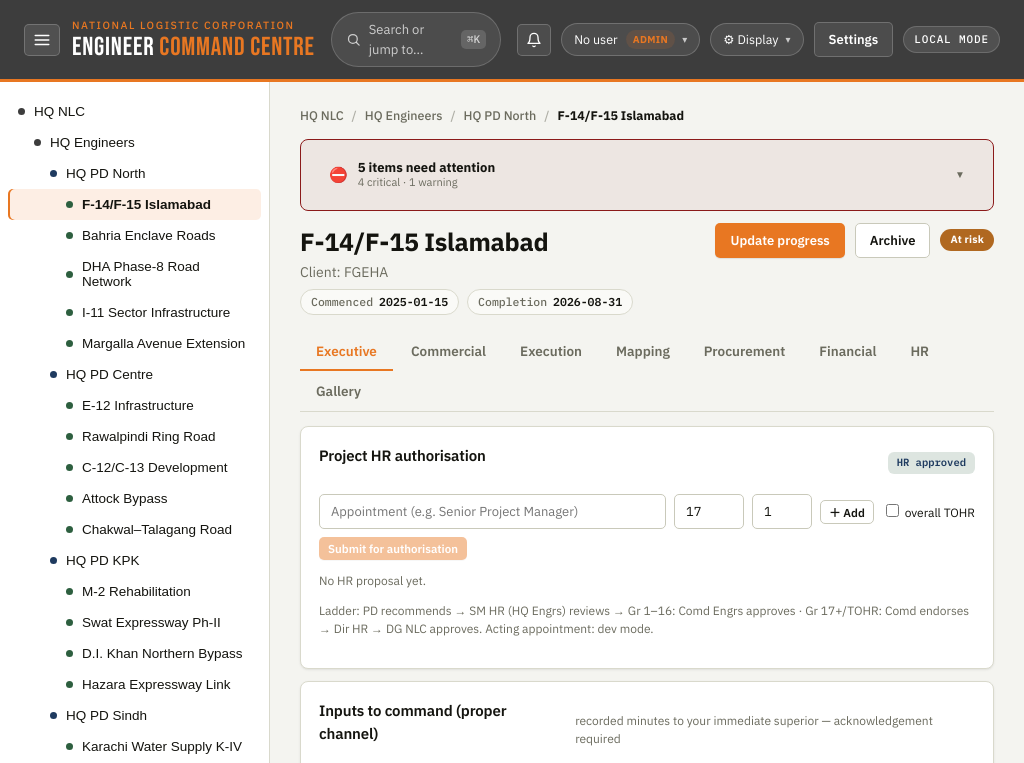
Scenario: Header command bar › folds display controls (zoom, density, theme, presentation) into one menu
Click the button with aria-label "Display settings". click: {"x": 757, "y": 40}
box: [710, 23, 804, 56]
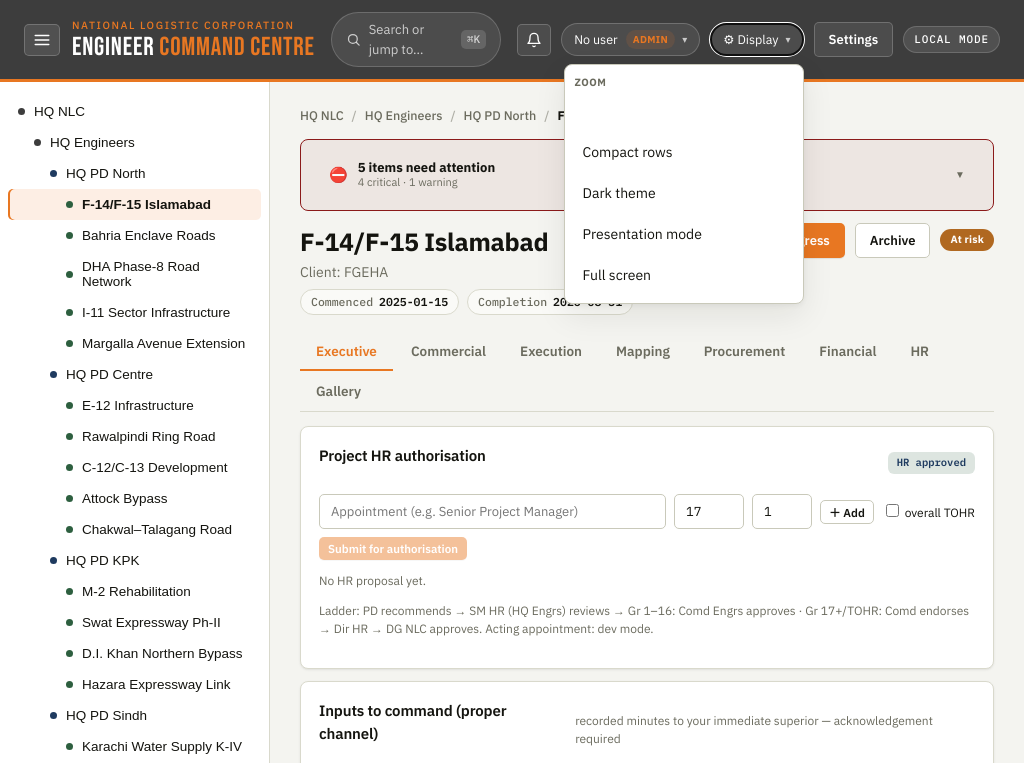
Check: the menu item "Compact rows" is shown, box [574, 135, 792, 170]
Check: the menu item "Dark theme" is shown, box [574, 176, 792, 211]
Check: the menu item "Presentation mode" is shown, box [574, 217, 792, 252]
